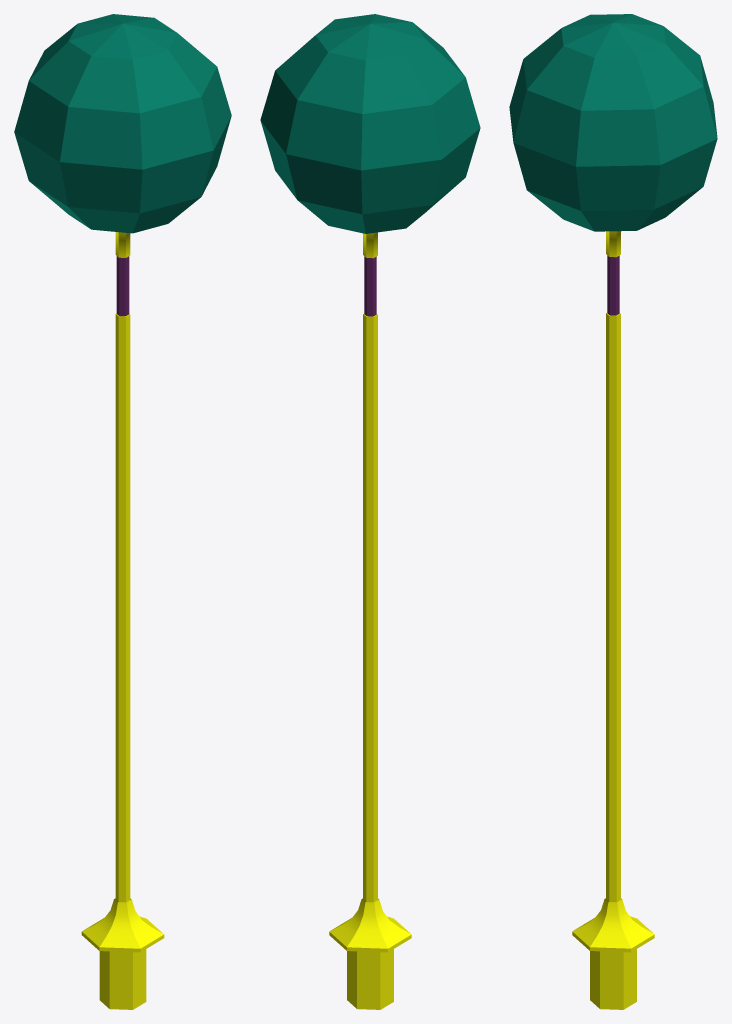
File: SM_lampadaire.fbx
3 views of the same model, side by side, from view 1: azimuth 30°, elevation 25°; view 2: azimuth 150°, elevation 25°; view 3: azimuth 270°, elevation 25° (orthographic).
Visible parts, largest first — view 1: SM_lampadaire; view 2: SM_lampadaire; view 3: SM_lampadaire.
Boxes of the visible parts, x1=… form: SM_lampadaire: x1=14, y1=14, x2=231, y2=1009; SM_lampadaire: x1=260, y1=14, x2=480, y2=1009; SM_lampadaire: x1=509, y1=14, x2=717, y2=1009.
Size of the model in its own units: 1.12 by 5.82 by 1.12.
